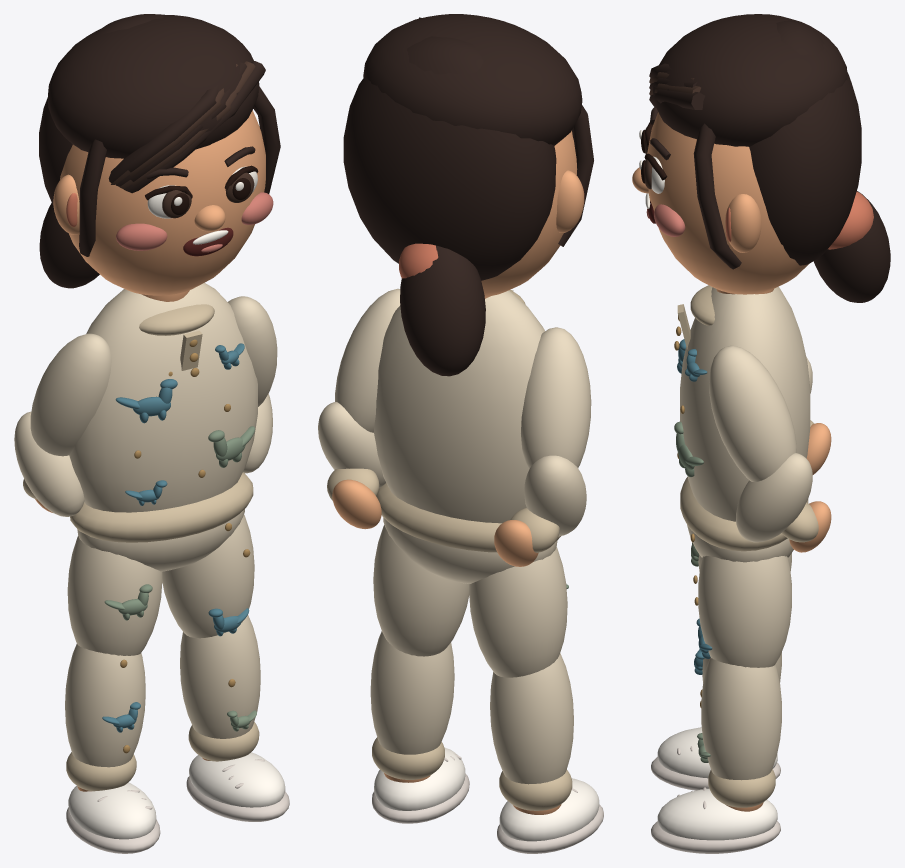
The model's file is avatar-anak-bimbel-pro.glb.
3 views of the same model, side by side, from view 1: azimuth 30°, elevation 25°; view 2: azimuth 150°, elevation 25°; view 3: azimuth 270°, elevation 25° (orthographic). The views are drawn at different scales.
Visible parts, largest first — view 1: Atasan piyama, Puncak rambut, Kepala, Betis (×2), Paha (×2), Lengan atas (×2), Sepatu putih (×2), Poni menyamping (×5), Keliman atasan, Lengan bawah (×2), Helai samping (×2), Pinggul (+10 smaller); view 2: Rambut belakang, Atasan piyama, Puncak rambut, Paha (×2), Betis (×2), Lengan atas (×2), Ekor rambut, Lengan bawah (×2), Sepatu putih (×2), Manset kaki (×2), Keliman atasan, Pinggul (+7 smaller); view 3: Puncak rambut, Rambut belakang, Atasan piyama, Kepala, Paha, Betis, Lengan atas, Sepatu putih (×2), Lengan bawah, Ekor rambut, Sol sepatu (×2), Helai samping (+10 smaller).
Boxes of the visible parts, <box> form: Atasan piyama: <box>69,283,257,512</box>; Puncak rambut: <box>48,15,259,158</box>; Kepala: <box>60,110,265,295</box>; Betis (×2): <box>65,615,260,767</box>; Paha (×2): <box>67,514,254,655</box>; Lengan atas (×2): <box>30,296,277,456</box>; Sepatu putih (×2): <box>68,752,285,839</box>; Poni menyamping (×5): <box>108,61,265,193</box>; Keliman atasan: <box>70,472,253,542</box>; Lengan bawah (×2): <box>14,393,272,516</box>; Helai samping (×2): <box>79,85,280,256</box>; Pinggul: <box>77,509,244,571</box>; Rambut belakang: <box>343,36,556,280</box>; Atasan piyama: <box>374,290,544,523</box>; Puncak rambut: <box>363,14,582,145</box>; Paha (×2): <box>373,525,567,677</box>; Betis (×2): <box>370,631,573,784</box>; Lengan atas (×2): <box>335,288,591,469</box>; Ekor rambut: <box>400,245,485,376</box>; Lengan bawah (×2): <box>318,402,586,536</box>; Sepatu putih (×2): <box>374,747,599,841</box>; Manset kaki (×2): <box>372,737,572,810</box>; Keliman atasan: <box>376,483,560,552</box>; Pinggul: <box>383,518,557,583</box>; Puncak rambut: <box>653,14,847,146</box>; Rambut belakang: <box>749,20,861,265</box>; Atasan piyama: <box>680,286,810,521</box>; Kepala: <box>647,112,809,294</box>; Paha: <box>698,556,791,667</box>; Betis: <box>701,657,781,780</box>; Lengan atas: <box>709,345,796,482</box>; Sepatu putih (×2): <box>657,727,777,840</box>; Lengan bawah: <box>736,453,812,542</box>; Ekor rambut: <box>813,191,890,302</box>; Sol sepatu (×2): <box>651,757,780,853</box>; Helai samping: <box>693,123,741,269</box>.
Bounding box in the file's own units: 0.6486 × 1.96 × 0.5831.
